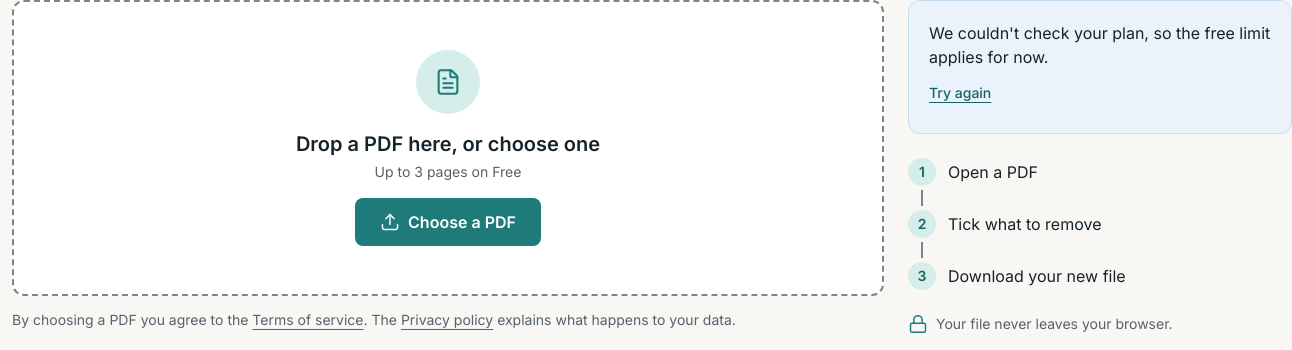
the plan, said out loud (spec 0012, AC-5 and AC-6) › the helper and the plan line (AC-5) › moves focus to the plan line when Try again brings an answer, never to the page
The width and height of the screenshot is (1292, 350).
Click the button "Try again" at (960, 93), box [929,73,991,113]
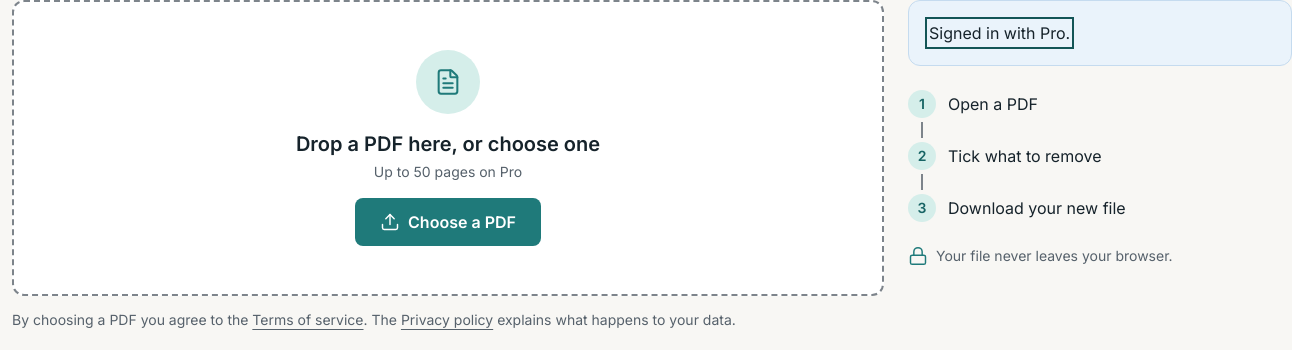
Expected: the button with test id "plan-try-again" is gone
Expected: the message reads "Signed in with Pro.", [929,23,1070,43]
